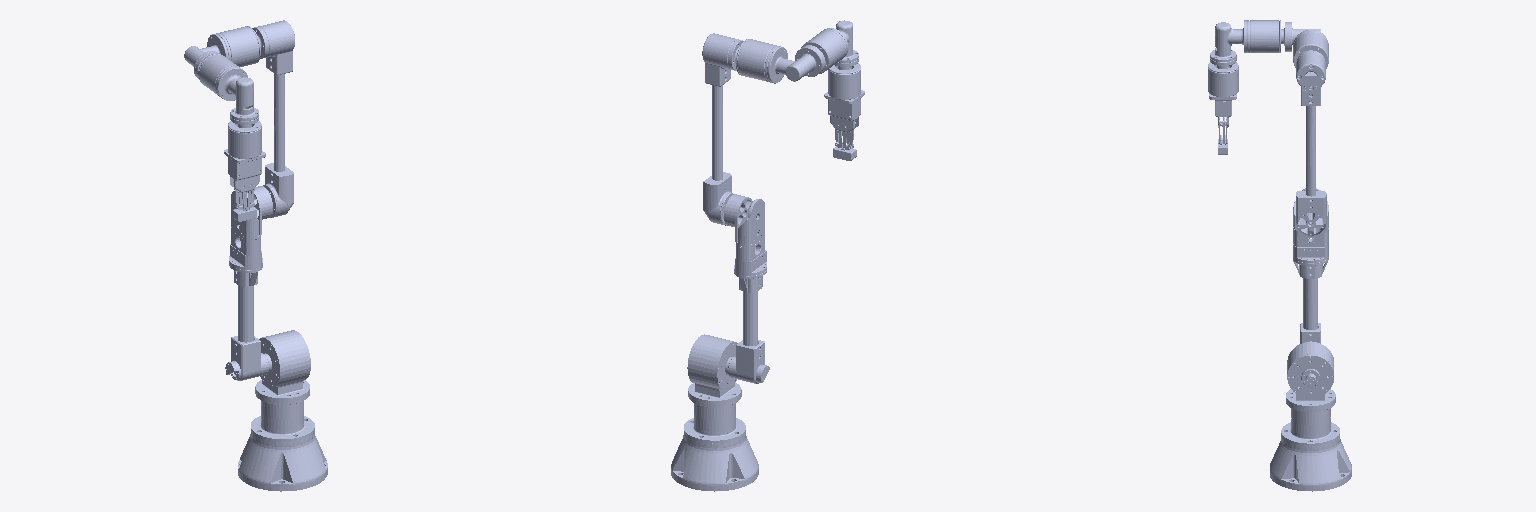
URDF robot description (arm_urdf):
<?xml version="1.0" encoding="utf-8" ?>
<!-- This URDF was automatically created by SolidWorks to URDF Exporter! Originally created by [author] ([email redacted]) 
     Commit Version: 1.6.0-4-g7f85cfe  Build Version: 1.6.7995.38578
     For more information, please see http://wiki.ros.org/sw_urdf_exporter -->
<robot name="arm_urdf">
    <link name="world" />
    <joint name="base_joint" type="fixed">
        <parent link="world" />
        <child link="base_link" />
        <origin rpy="0 0 0" xyz="0.0 0.0 0.17" />
    </joint>
    <link name="base_link">
        <inertial>
            <origin xyz="-5.7174E-07 0.0045412 0.098906" rpy="0 0 0" />
            <mass value="3" />
            <inertia ixx="0.032295" ixy="5.8576E-06" ixz="-3.6591E-08" iyy="0.032303" iyz="1.0399E-07" izz="0.049257" />
        </inertial>
        <visual>
            <origin xyz="0 0 0" rpy="0 0 0" />
            <geometry>
                <mesh filename="package://configured_urdf/meshes/base_link.STL" />
            </geometry>
            <material name="">
                <color rgba="0.79216 0.81961 0.93333 1" />
            </material>
        </visual>
        <collision>
            <origin xyz="0 0 0" rpy="0 0 0" />
            <geometry>
                <mesh filename="package://configured_urdf/meshes/base_link.STL" />
            </geometry>
        </collision>
    </link>
    <link name="link_1">
        <inertial>
            <origin xyz="-0.013855 7.5936E-05 0.086375" rpy="0 0 0" />
            <mass value="1.873" />
            <inertia ixx="0.00566351328283507" ixy="-1.04558937929122E-05" ixz="-6.48034055359616E-07" iyy="0.00839819660152376" iyz="6.49591458494556E-06" izz="0.00429596708244297" />
        </inertial>
        <visual>
            <origin xyz="0 0 0" rpy="0 0 0" />
            <geometry>
                <mesh filename="package://configured_urdf/meshes/link_1.STL" />
            </geometry>
            <material name="">
                <color rgba="0.792156862745098 0.819607843137255 0.933333333333333 1" />
            </material>
        </visual>
        <collision>
            <origin xyz="0 0 0" rpy="0 0 0" />
            <geometry>
                <mesh filename="package://configured_urdf/meshes/link_1.STL" />
            </geometry>
        </collision>
    </link>
    <joint name="joint_1" type="revolute">
        <origin xyz="0 0.00454 0.27675" rpy="0 0 0" />
        <parent link="base_link" />
        <child link="link_1" />
        <axis xyz="0 0 -1" />
        <limit lower="-3.14" upper="3.14" effort="100" velocity="2" />
    </joint>
    <link name="link_2">
        <inertial>
            <origin xyz="0.29593 0.00046382 0.12519" rpy="0 0 0" />
            <mass value="2.5" />
            <inertia ixx="0.00381425219473924" ixy="-6.14347545053114E-07" ixz="3.25630674096076E-07" iyy="0.00253644091656756" iyz="4.62685347382033E-05" izz="0.00455114275469431" />
        </inertial>
        <visual>
            <origin xyz="0 0 0" rpy="0 0 0" />
            <geometry>
                <mesh filename="package://configured_urdf/meshes/link_2.STL" />
            </geometry>
            <material name="">
                <color rgba="0.792156862745098 0.819607843137255 0.933333333333333 1" />
            </material>
        </visual>
        <collision>
            <origin xyz="0 0 0" rpy="0 0 0" />
            <geometry>
                <mesh filename="package://configured_urdf/meshes/link_2.STL" />
            </geometry>
        </collision>
    </link>
    <joint name="joint_2" type="revolute">
        <origin xyz="0 0 0.11125" rpy="0 -1.5708 0" />
        <parent link="link_1" />
        <child link="link_2" />
        <axis xyz="0 0 1" />
        <limit lower="-2.5" upper="2.5" effort="100" velocity="1" />
    </joint>
    <link name="link_3">
        <inertial>
            <origin xyz="0.32444 -6.8657E-07 0.039405" rpy="0 0 0" />
            <mass value="1" />
            <inertia ixx="0.00196021824270027" ixy="9.25458253531087E-09" ixz="0.00010306604826548" iyy="0.00515003950689768" iyz="2.37777893997033E-07" izz="0.00549377032977703" />
        </inertial>
        <visual>
            <origin xyz="0 0 0" rpy="0 0 0" />
            <geometry>
                <mesh filename="package://configured_urdf/meshes/link_3.STL" />
            </geometry>
            <material name="">
                <color rgba="0.792156862745098 0.819607843137255 0.933333333333333 1" />
            </material>
        </visual>
        <collision>
            <origin xyz="0 0 0" rpy="0 0 0" />
            <geometry>
                <mesh filename="package://configured_urdf/meshes/link_3.STL" />
            </geometry>
        </collision>
    </link>
    <joint name="joint_3" type="revolute">
        <origin xyz="0.55067 0.0010554 0.059019" rpy="3.1416 0 0" />
        <parent link="link_2" />
        <child link="link_3" />
        <axis xyz="0 0 1" />
        <limit lower="-2.5" upper="2.5" effort="100" velocity="3" />
    </joint>
    <link name="link_4">
        <inertial>
            <origin xyz="1.3229E-08 -0.0050573 0.035081" rpy="0 0 0" />
            <mass value="1.744" />
            <inertia ixx="0.00249453144751075" ixy="7.73589000942063E-07" ixz="0.000170421488833695" iyy="0.00280473142887027" iyz="5.087762095777E-10" izz="0.00274584396628007" />
        </inertial>
        <visual>
            <origin xyz="0 0 0" rpy="0 0 0" />
            <geometry>
                <mesh filename="package://configured_urdf/meshes/link_4.STL" />
            </geometry>
            <material name="">
                <color rgba="0.792156862745098 0.819607843137255 0.933333333333333 1" />
            </material>
        </visual>
        <collision>
            <origin xyz="0 0 0" rpy="0 0 0" />
            <geometry>
                <mesh filename="package://configured_urdf/meshes/link_4.STL" />
            </geometry>
        </collision>
    </link>
    <joint name="joint_4" type="revolute">
        <origin xyz="0.55 0 -0.10754" rpy="-3.1416 0 0" />
        <parent link="link_3" />
        <child link="link_4" />
        <axis xyz="0 0 -1" />
        <limit lower="-3.14" upper="3.14" effort="100" velocity="3" />
    </joint>
    <link name="link_5">
        <inertial>
            <origin xyz="-0.0036254 2.0253E-08 0.0394" rpy="0 0 0" />
            <mass value="1.5" />
            <inertia ixx="0.00202763520282033" ixy="-8.51201181339961E-08" ixz="-0.000105317069769619" iyy="0.00234849069953242" iyz="3.03954991529095E-10" izz="0.00214314421305717" />
        </inertial>
        <visual>
            <origin xyz="0 0 0" rpy="0 0 0" />
            <geometry>
                <mesh filename="package://configured_urdf/meshes/link_5.STL" />
            </geometry>
            <material name="">
                <color rgba="0.792156862745098 0.819607843137255 0.933333333333333 1" />
            </material>
        </visual>
        <collision>
            <origin xyz="0 0 0" rpy="0 0 0" />
            <geometry>
                <mesh filename="package://configured_urdf/meshes/link_5.STL" />
            </geometry>
        </collision>
    </link>
    <joint name="joint_5" type="revolute">
        <origin xyz="0 -0.157 0.14" rpy="1.5708 0 0" />
        <parent link="link_4" />
        <child link="link_5" />
        <axis xyz="0 0 1" />
        <limit lower="-3.14" upper="3.14" effort="100" velocity="3" />
    </joint>
    <link name="link_6">
        <inertial>
            <origin xyz="-8.1852E-05 4.7642E-05 0.015002" rpy="0 0 0" />
            <mass value="1.7" />
            <inertia ixx="0.00129580720562651" ixy="-2.11975079631151E-06" ixz="-8.20914432830694E-07" iyy="0.00147763709203844" iyz="-1.21375457564458E-06" izz="0.00138719029183947" />
        </inertial>
        <visual>
            <origin xyz="0 0 0" rpy="0 0 0" />
            <geometry>
                <mesh filename="package://configured_urdf/meshes/link_6.STL" />
            </geometry>
            <material name="">
                <color rgba="0.792156862745098 0.819607843137255 0.933333333333333 1" />
            </material>
        </visual>
        <collision>
            <origin xyz="0 0 0" rpy="0 0 0" />
            <geometry>
                <mesh filename="package://configured_urdf/meshes/link_6.STL" />
            </geometry>
        </collision>
    </link>
    <joint name="joint_6" type="revolute">
        <origin xyz="-0.157 0 0.14" rpy="-1.5708 0 1.5708" />
        <parent link="link_5" />
        <child link="link_6" />
        <axis xyz="0 0 -1" />
        <limit lower="-1.2" upper="4.2" effort="100" velocity="3" />
    </joint>
    <link name="right_gripper">
        <inertial>
            <origin xyz="0.013255 0.080275 0.00033066" rpy="0 0 0" />
            <mass value="0.028855" />
            <inertia ixx="1.2432E-05" ixy="1.8928E-07" ixz="3.263E-12" iyy="4.3852E-06" iyz="-7.5287E-12" izz="1.2567E-05" />
        </inertial>
        <visual>
            <origin xyz="0 0 0" rpy="0 0 0" />
            <geometry>
                <mesh filename="package://configured_urdf/meshes/right_gripper.STL" />
            </geometry>
            <material name="">
                <color rgba="0.79216 0.81961 0.93333 1" />
            </material>
        </visual>
        <collision>
            <origin xyz="0 0 0" rpy="0 0 0" />
            <geometry>
                <mesh filename="package://configured_urdf/meshes/right_gripper.STL" />
            </geometry>
        </collision>
        <dynamics damping="1" friction="1" />
    </link>
    <joint name="right_ee_joint" type="revolute">
        <origin xyz="0.031487 2.5E-05 0.14715" rpy="1.5708 0 -3.1416" />
        <parent link="link_6" />
        <child link="right_gripper" />
        <axis xyz="0 0 -1" />
        <limit lower="-1" upper="0" effort="0.1" velocity="2" />
    </joint>
    <link name="left_gripper">
        <inertial>
            <origin xyz="-0.012568 0.080386 0.00028069" rpy="0 0 0" />
            <mass value="0.028855" />
            <inertia ixx="1.2428E-05" ixy="-2.5801E-07" ixz="3.3277E-12" iyy="4.389E-06" iyz="7.4999E-12" izz="1.2567E-05" />
        </inertial>
        <visual>
            <origin xyz="0 0 0" rpy="0 0 0" />
            <geometry>
                <mesh filename="package://configured_urdf/meshes/left_gripper.STL" />
            </geometry>
            <material name="">
                <color rgba="0.79216 0.81961 0.93333 1" />
            </material>
        </visual>
        <collision>
            <origin xyz="0 0 0" rpy="0 0 0" />
            <geometry>
                <mesh filename="package://configured_urdf/meshes/left_gripper.STL" />
            </geometry>
        </collision>
        <dynamics damping="1" friction="1.0" />
    </link>
    <joint name="left_ee_joint" type="revolute">
        <origin xyz="-0.031487 2.5E-05 0.14715" rpy="1.5708 0 3.1416" />
        <parent link="link_6" />
        <child link="left_gripper" />
        <axis xyz="0 0 -1" />
        <limit lower="0" upper="1" effort="0.1" velocity="2" />
    </joint>
    <transmission name="link_1_trans">
        <type>transmission_interface/SimpleTransmission</type>
        <joint name="joint_1">
            <hardwareInterface>hardware_interface/PositionJointInterface</hardwareInterface>
        </joint>
        <actuator name="link_1_motor">
            <hardwareInterface>hardware_interface/PositionJointInterface</hardwareInterface>
            <mechanicalReduction>1</mechanicalReduction>
        </actuator>
    </transmission>
    <transmission name="link_2_trans">
        <type>transmission_interface/SimpleTransmission</type>
        <joint name="joint_2">
            <hardwareInterface>hardware_interface/PositionJointInterface</hardwareInterface>
        </joint>
        <actuator name="link_2_motor">
            <hardwareInterface>hardware_interface/PositionJointInterface</hardwareInterface>
            <mechanicalReduction>1</mechanicalReduction>
        </actuator>
    </transmission>
    <transmission name="link_3_trans">
        <type>transmission_interface/SimpleTransmission</type>
        <joint name="joint_3">
            <hardwareInterface>hardware_interface/PositionJointInterface</hardwareInterface>
        </joint>
        <actuator name="link_3_motor">
            <hardwareInterface>hardware_interface/PositionJointInterface</hardwareInterface>
            <mechanicalReduction>1</mechanicalReduction>
        </actuator>
    </transmission>
    <transmission name="link_4_trans">
        <type>transmission_interface/SimpleTransmission</type>
        <joint name="joint_4">
            <hardwareInterface>hardware_interface/PositionJointInterface</hardwareInterface>
        </joint>
        <actuator name="link_4_motor">
            <hardwareInterface>hardware_interface/PositionJointInterface</hardwareInterface>
            <mechanicalReduction>1</mechanicalReduction>
        </actuator>
    </transmission>
    <transmission name="link_5_trans">
        <type>transmission_interface/SimpleTransmission</type>
        <joint name="joint_5">
            <hardwareInterface>hardware_interface/PositionJointInterface</hardwareInterface>
        </joint>
        <actuator name="link_5_motor">
            <hardwareInterface>hardware_interface/PositionJointInterface</hardwareInterface>
            <mechanicalReduction>1</mechanicalReduction>
        </actuator>
    </transmission>
    <transmission name="link_6_trans">
        <type>transmission_interface/SimpleTransmission</type>
        <joint name="joint_6">
            <hardwareInterface>hardware_interface/PositionJointInterface</hardwareInterface>
        </joint>
        <actuator name="link_6_motor">
            <hardwareInterface>hardware_interface/PositionJointInterface</hardwareInterface>
            <mechanicalReduction>1</mechanicalReduction>
        </actuator>
    </transmission>
    <transmission name="link_7_trans">
        <type>transmission_interface/SimpleTransmission</type>
        <joint name="right_ee_joint">
            <hardwareInterface>hardware_interface/EffortJointInterface</hardwareInterface>
        </joint>
        <actuator name="link_7_motor">
            <hardwareInterface>hardware_interface/EffortJointInterface</hardwareInterface>
            <mechanicalReduction>1</mechanicalReduction>
        </actuator>
    </transmission>
    <transmission name="link_8_trans">
        <type>transmission_interface/SimpleTransmission</type>
        <joint name="left_ee_joint">
            <hardwareInterface>hardware_interface/EffortJointInterface</hardwareInterface>
        </joint>
        <actuator name="link_8_motor">
            <hardwareInterface>hardware_interface/EffortJointInterface</hardwareInterface>
            <mechanicalReduction>1</mechanicalReduction>
        </actuator>
    </transmission>
    <gazebo>
        <plugin name="control" filename="libgazebo_ros_control.so">
            <robotNamespace>/</robotNamespace>
            <robotSimType>gazebo_ros_control/DefaultRobotHWSim</robotSimType>
        </plugin>
        <plugin name="gazebo_ros_control">
            <robotNamespace>/</robotNamespace>
        </plugin>
    </gazebo>
    <gazebo reference="link_1">
        <mu1>2</mu1>
        <mu2>2</mu2>
    </gazebo>
    <gazebo reference="link_2">
        <mu1>0.2</mu1>
        <mu2>0.2</mu2>
    </gazebo>
    <gazebo reference="link_3">
        <selfCollide>true</selfCollide>
    </gazebo>
    <gazebo reference="link_4">
        <mu1>0.2</mu1>
        <mu2>0.2</mu2>
    </gazebo>
    <gazebo reference="link_5">
        <mu1>0.2</mu1>
        <mu2>0.2</mu2>
    </gazebo>
    <gazebo reference="link_6">
        <mu1>0.2</mu1>
        <mu2>0.2</mu2>
    </gazebo>
    <gazebo reference="right_gripper">
        <kp>1000000.0</kp>
        <kd>1.0</kd>
        <mu1>30.0</mu1>
        <mu2>30.0</mu2>
    </gazebo>
    <gazebo reference="left_gripper">
        <kp>1000000.0</kp>
        <kd>1.0</kd>
        <mu1>30.0</mu1>
        <mu2>30.0</mu2>
    </gazebo>
    <gazebo>
        <plugin name="gazebo_grasp_fix" filename="libgazebo_grasp_fix.so">
            <arm>
                <arm_name>/</arm_name>
                <palm_link>link_6</palm_link>
                <gripper_link>right_gripper</gripper_link>
                <gripper_link>left_gripper</gripper_link>
            </arm>
            <forces_angle_tolerance>100</forces_angle_tolerance>
            <update_rate>10</update_rate>
            <grip_count_threshold>3</grip_count_threshold>
            <max_grip_count>10</max_grip_count>
            <release_tolerance>0.01</release_tolerance>
            <disable_collisions_on_attach>false</disable_collisions_on_attach>
            <contact_topic>__default_topic__</contact_topic>
        </plugin>
    </gazebo>
</robot>

--- What the picture shows (computed from the rendered views, not written in the file) ---
Views: 3 orthographic renders of the robot side by side, from view 1: azimuth 30°, elevation 25°; view 2: azimuth 150°, elevation 25°; view 3: azimuth 270°, elevation 25°.
Robot: arm_urdf — 10 links, 9 joints (8 revolute, 1 fixed); root link world; default pose: every joint at zero.
Links seen in each view (by area): view 1: base_link, link_2, link_3, link_1, link_5, link_6, link_4; view 2: base_link, link_2, link_3, link_1, link_4, link_6, link_5; view 3: base_link, link_3, link_1, link_2, link_5, link_6, link_4.
Link boxes in pixels (x1,y1,x2,y2): base_link: [238, 390, 327, 491]; link_2: [229, 185, 276, 380]; link_3: [258, 20, 294, 217]; link_1: [225, 330, 310, 400]; link_5: [195, 52, 258, 120]; link_6: [224, 116, 265, 192]; link_4: [184, 26, 268, 76]; base_link: [671, 393, 758, 491]; link_2: [720, 193, 766, 383]; link_3: [702, 33, 737, 224]; link_1: [687, 334, 769, 403]; link_4: [728, 39, 822, 83]; link_6: [824, 58, 864, 132]; link_5: [801, 20, 858, 73]; base_link: [1270, 400, 1351, 491]; link_3: [1296, 52, 1326, 235]; link_1: [1286, 342, 1335, 408]; link_2: [1293, 188, 1328, 360]; link_5: [1210, 20, 1288, 61]; link_6: [1208, 57, 1238, 127]; link_4: [1289, 22, 1328, 68].
Size in the robot's own frame: 0.5014 by 0.4884 by 1.55 metres.
9 mesh visuals loaded from 9 distinct referenced files (9 binary STL).